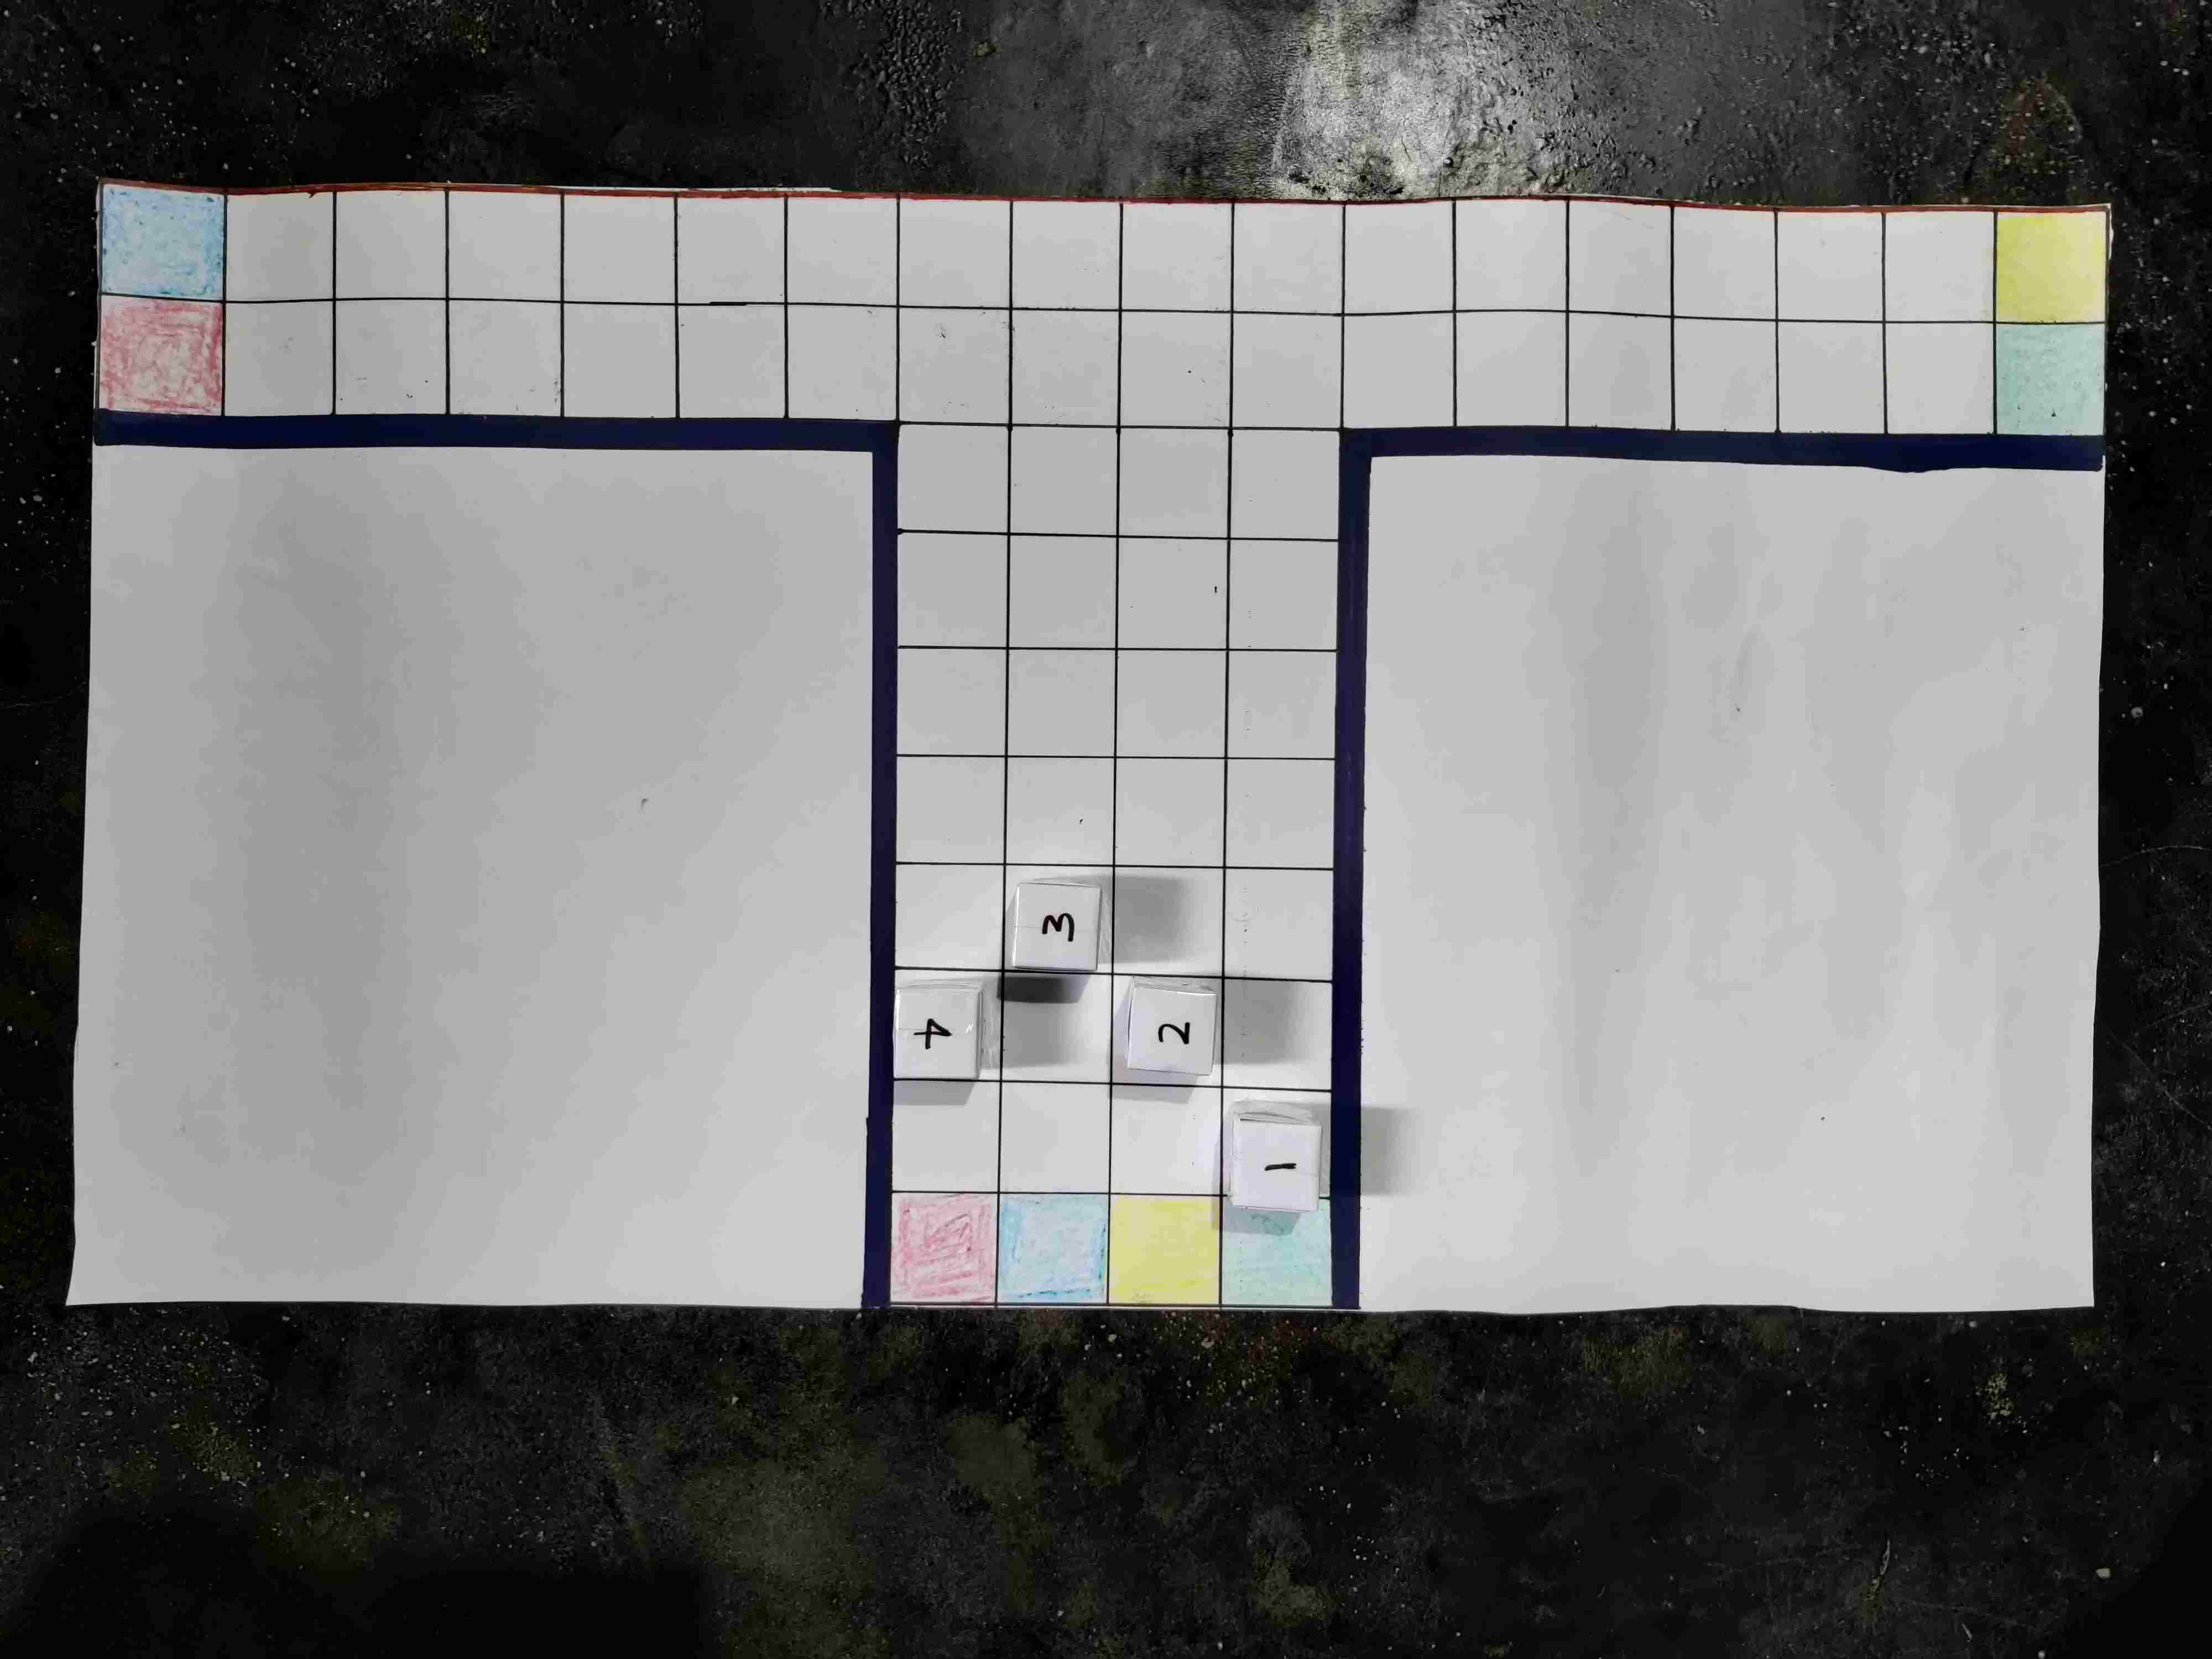arena: (268, 143, 2174, 1286)
bot: (916, 1150, 1007, 1232), (1768, 1194, 1855, 1274), (1054, 399, 1134, 483), (1360, 972, 1439, 1051)
